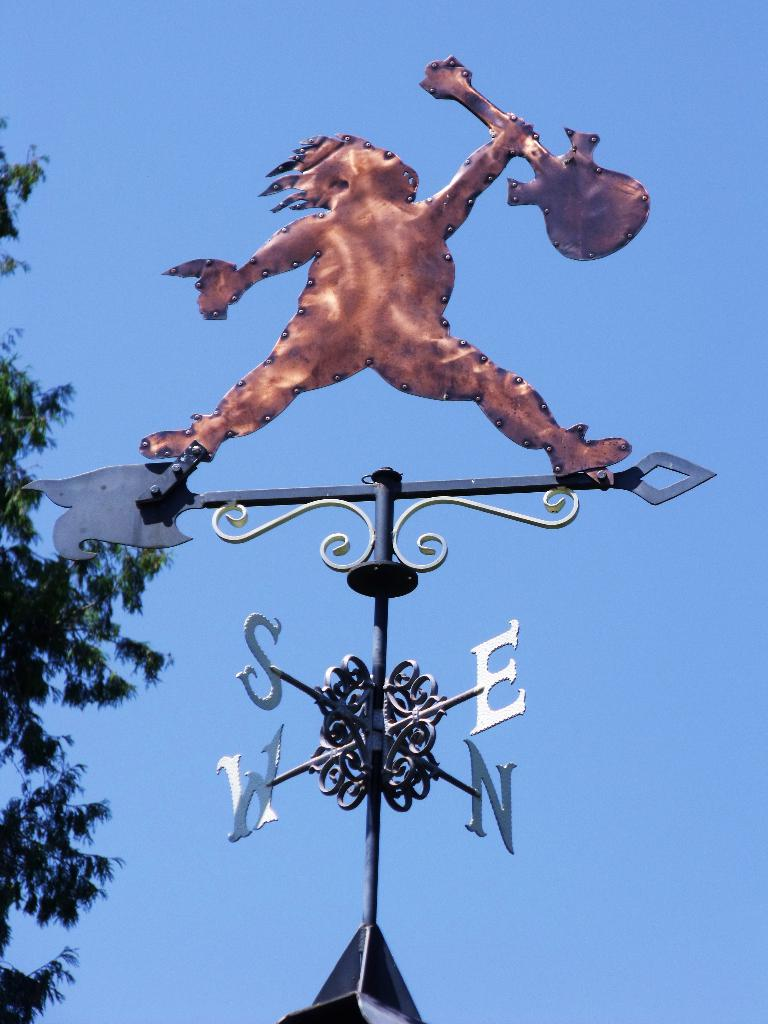Tree: (0, 115, 174, 1023)
